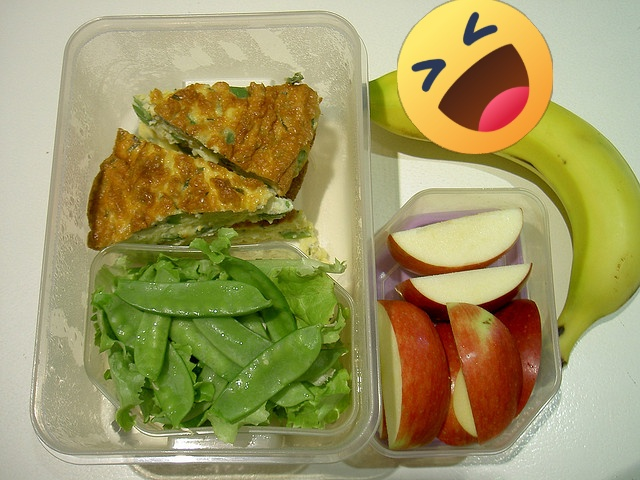haha: (397, 0, 553, 154)
